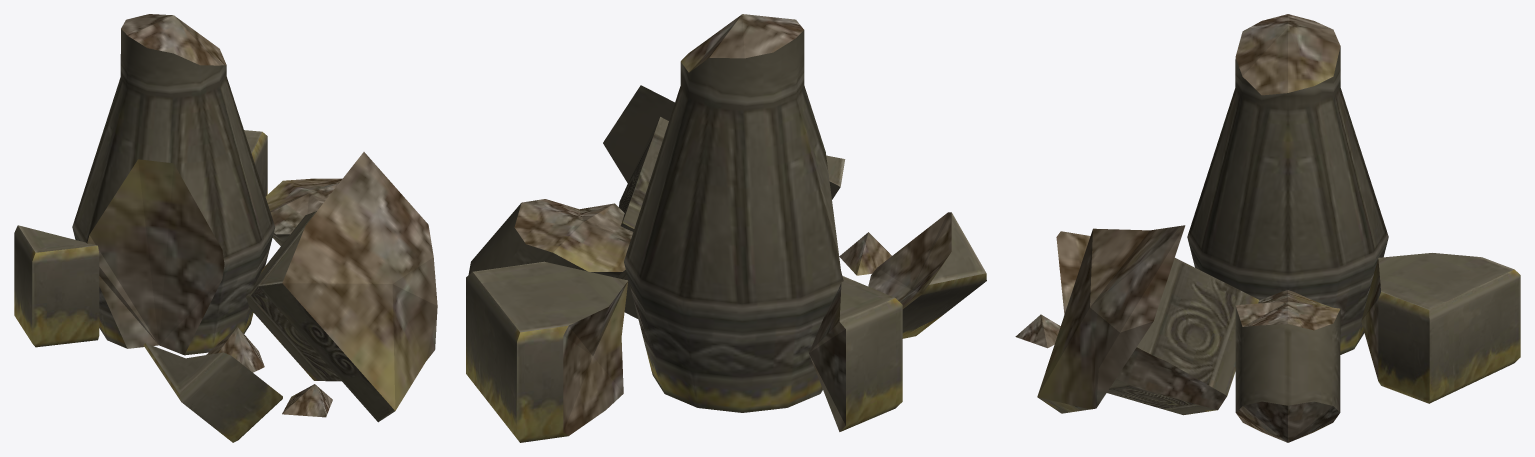
The model's file is Battle05_Column_03.FBX.
The picture shows the model from 3 angles, left to right: view 1: azimuth 30°, elevation 25°; view 2: azimuth 150°, elevation 25°; view 3: azimuth 270°, elevation 25°; orthographic projection. The views are drawn at different scales.
Parts seen in each view (by area): view 1: Battle05_Column_03; view 2: Battle05_Column_03; view 3: Battle05_Column_03.
Part boxes in pixels (x1,y1,x2,y2): Battle05_Column_03: (14,14,437,442); Battle05_Column_03: (466,14,986,442); Battle05_Column_03: (1015,14,1520,442).
Size of the model in its own units: 11.79 by 10.57 by 14.
